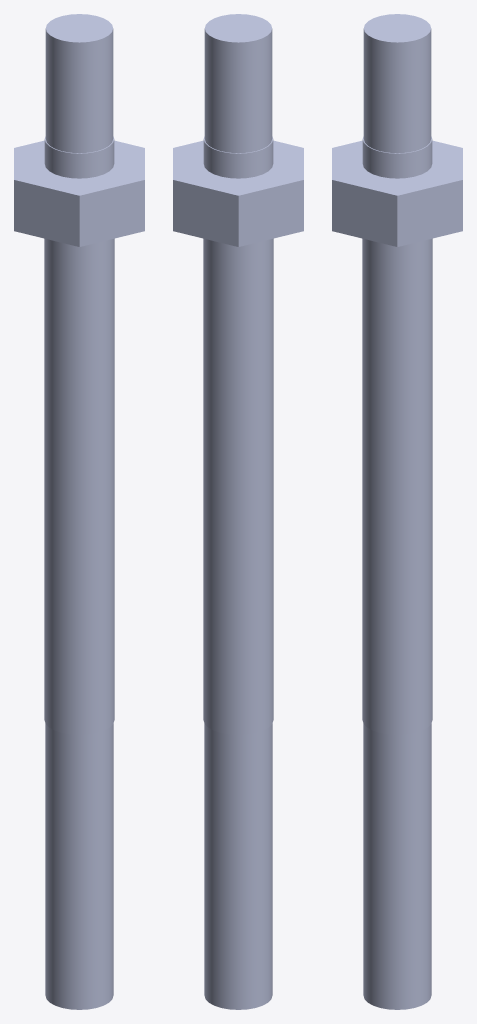
The model's file is Threaded Post Screw 6-32 Top and Bottom 1.75'.fbx.
3 views of the same model, side by side, from view 1: azimuth 90°, elevation 25°; view 2: azimuth 210°, elevation 25°; view 3: azimuth 270°, elevation 25° (orthographic).
Parts seen in each view (by area): view 1: Threaded Post Screw 6-32 Top and Bottom 1.75'; view 2: Threaded Post Screw 6-32 Top and Bottom 1.75'; view 3: Threaded Post Screw 6-32 Top and Bottom 1.75'.
Part boxes in pixels (x1,y1,x2,y2): Threaded Post Screw 6-32 Top and Bottom 1.75': (14,14,144,1009); Threaded Post Screw 6-32 Top and Bottom 1.75': (173,14,303,1009); Threaded Post Screw 6-32 Top and Bottom 1.75': (332,14,462,1009).
Bounding box in the file's own units: 0.7379 × 5.22 × 0.6391.
